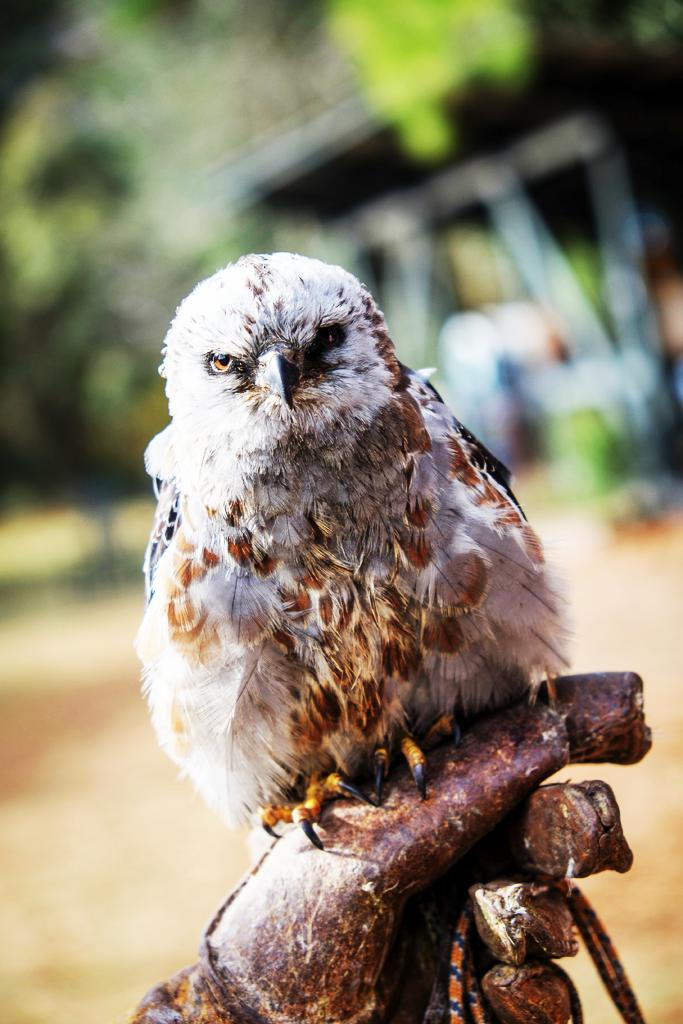Owl: (139, 248, 574, 846)
